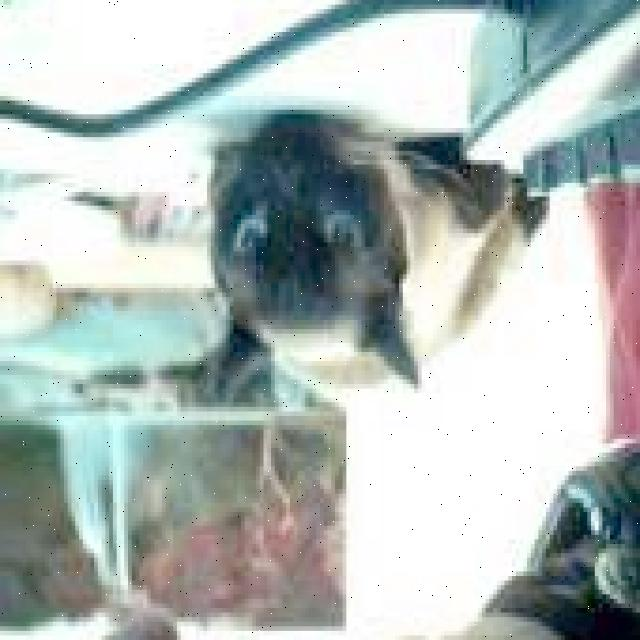Cat: (182, 100, 435, 395)
